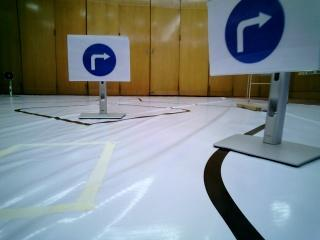right: (217, 0, 318, 68), (70, 37, 131, 81)
